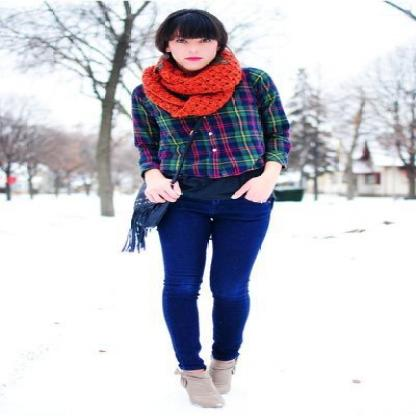bag: (121, 191, 168, 253)
pants: (155, 165, 272, 370)
shirt: (130, 67, 297, 183)
shoe: (175, 351, 236, 408)
